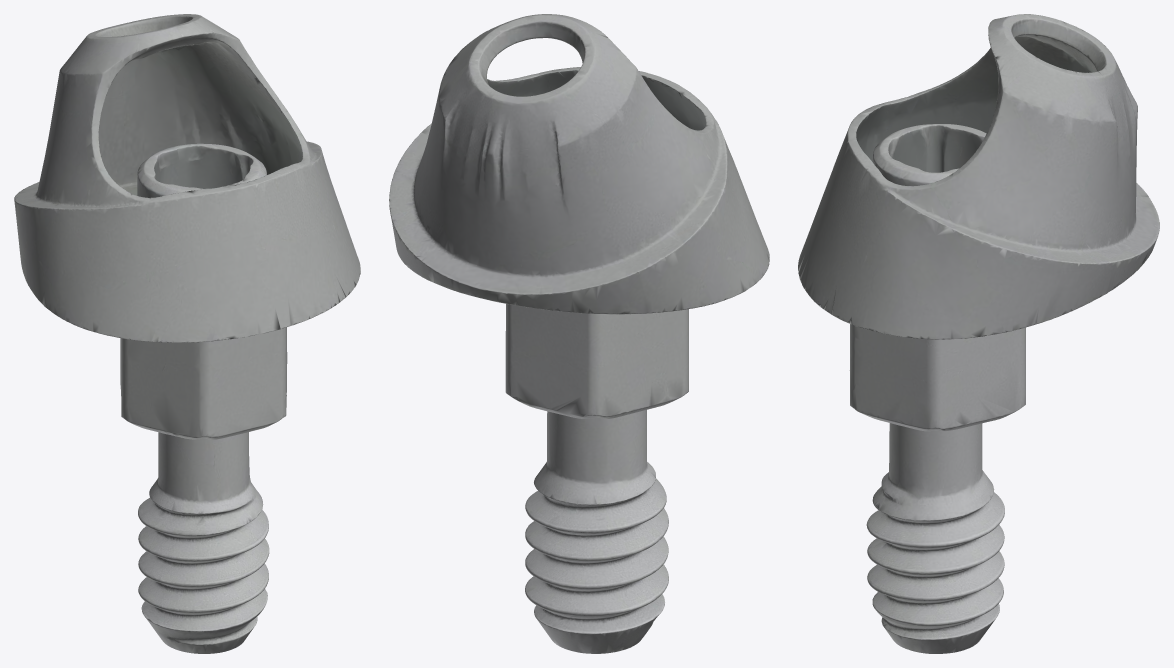
Rendered from mini-pilar-angulado-web.glb.
The picture shows the model from 3 angles, left to right: view 1: azimuth 30°, elevation 25°; view 2: azimuth 150°, elevation 25°; view 3: azimuth 270°, elevation 25°; orthographic projection. The views are drawn at different scales.
Visible parts, largest first — view 1: mesh_node; view 2: mesh_node; view 3: mesh_node.
Part boxes in pixels (x1=…): mesh_node: x1=14, y1=14, x2=360, y2=653; mesh_node: x1=389, y1=14, x2=769, y2=653; mesh_node: x1=798, y1=14, x2=1159, y2=653.
Bounding box in the file's own units: 0.9978 × 1.9 × 1.02.
Materials: 1 (1 with a texture image).
